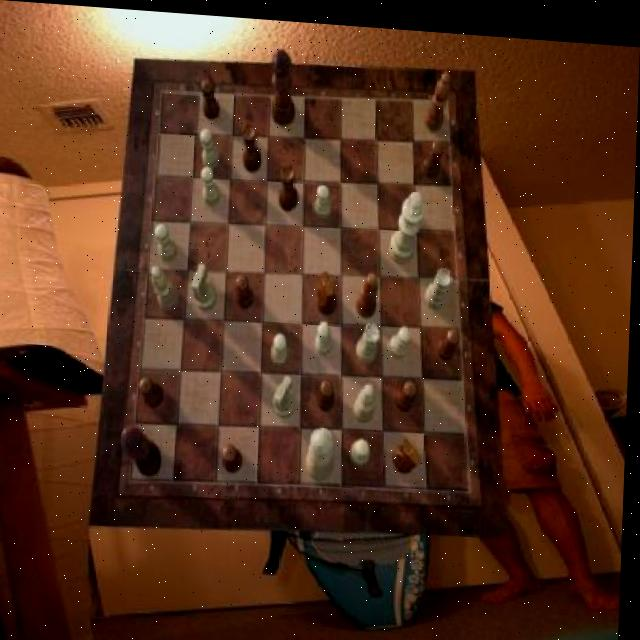bishop: (426, 65, 451, 126), (357, 266, 381, 313)
black-bishop: (124, 422, 166, 475)
black-king: (395, 432, 425, 468), (317, 266, 339, 312)
black-knight: (200, 76, 221, 117), (423, 133, 445, 172), (438, 320, 462, 355), (141, 373, 166, 406), (397, 373, 421, 405), (237, 270, 255, 305), (224, 442, 246, 470), (319, 374, 337, 408)
black-pawn: (269, 44, 298, 123)
black-queen: (242, 119, 263, 169), (279, 160, 300, 207)
black-rook: (152, 263, 184, 309), (357, 378, 379, 420)
white-bishop: (390, 183, 426, 259)
white-king: (193, 261, 219, 309), (274, 370, 299, 414)
white-knight: (156, 220, 180, 259), (199, 126, 220, 167), (200, 163, 222, 202), (391, 319, 413, 354), (272, 327, 291, 362), (314, 180, 332, 216), (318, 316, 336, 351), (353, 434, 374, 461)
white-pawn: (308, 422, 338, 477)
white-queen: (426, 261, 455, 305), (358, 317, 382, 359)
